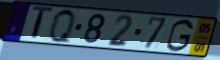2: (107, 14, 135, 48)
7: (144, 15, 169, 51)
8: (82, 13, 106, 45)
G: (165, 18, 195, 53)
Q: (48, 7, 77, 46)
T: (31, 5, 55, 43)
